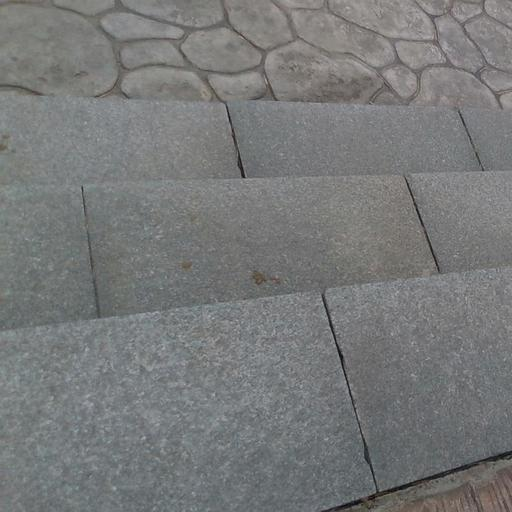stairs: (0, 97, 511, 511)
